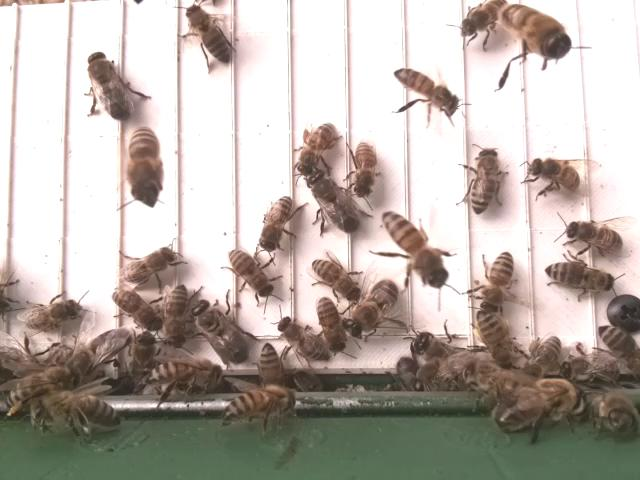Drone: (190, 298, 252, 367), (64, 327, 134, 385), (342, 275, 402, 339), (85, 48, 133, 124), (307, 169, 361, 236)
Worker: (382, 210, 446, 288), (393, 65, 459, 114), (183, 3, 233, 62), (147, 358, 227, 390), (543, 257, 616, 292), (127, 126, 160, 202), (229, 246, 277, 298), (294, 120, 337, 178), (115, 247, 180, 285), (566, 219, 627, 259), (274, 315, 327, 360), (309, 256, 363, 300), (223, 387, 295, 420), (526, 155, 589, 192), (258, 194, 297, 253), (475, 311, 514, 370), (468, 146, 501, 215), (113, 287, 159, 333), (480, 249, 515, 309), (23, 299, 82, 332), (316, 295, 347, 355), (458, 0, 511, 35), (165, 282, 191, 347), (257, 343, 287, 399), (353, 139, 380, 199)
